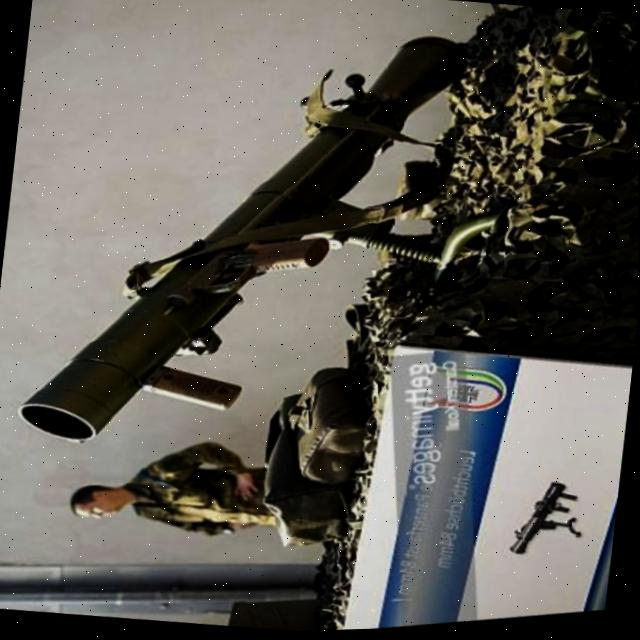rocket: (0, 0, 524, 489)
